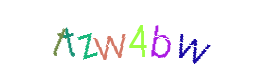4: (99, 0, 179, 80)
B: (122, 0, 202, 80)
T: (35, 0, 115, 80), (70, 0, 150, 80)
W: (91, 0, 171, 80), (151, 0, 231, 80)
Z: (87, 0, 167, 80)
